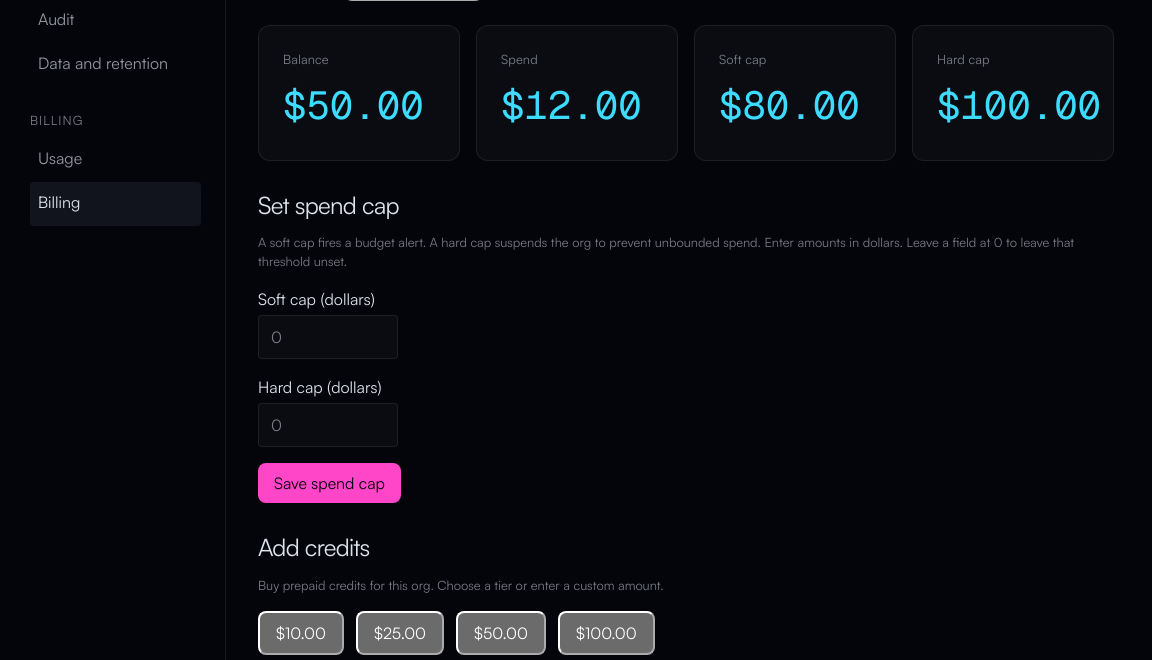
Test: Billing view › blocks submit and shows a validation message when an amount is negative
(page scrolled)
Type "-5" into the number field labelled "Soft cap (dollars)" at (328, 338), box [258,316,398,360]
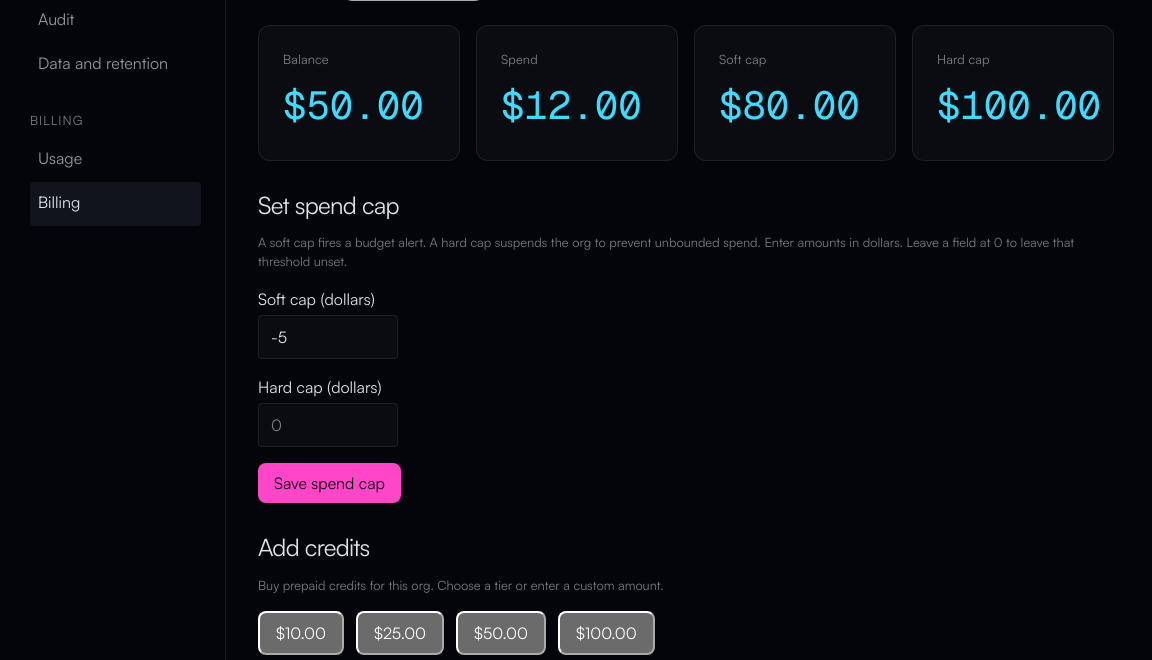
Click the button "Save spend cap" at (329, 484), box [258,464,401,504]
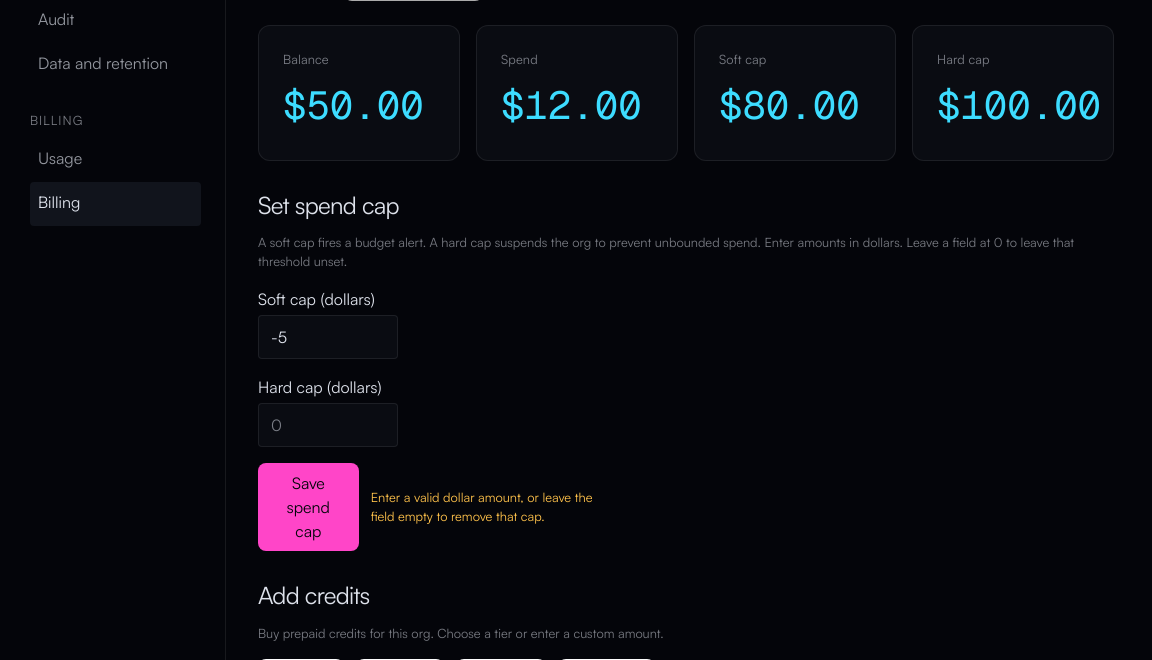
Expected: the text "Enter a valid dollar amount, or leave the field empty to remove that cap." is shown, [371,488,618,527]
